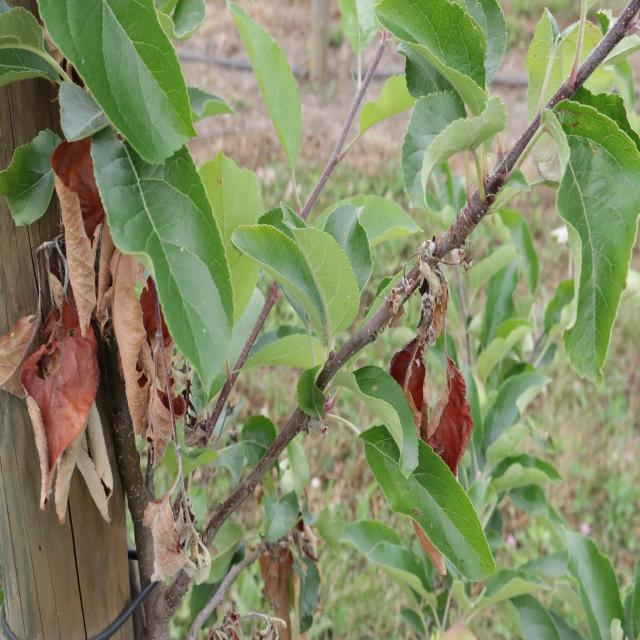-FireBlight-: (28, 153, 154, 497), (416, 245, 478, 472), (240, 541, 310, 640), (154, 500, 214, 583)
